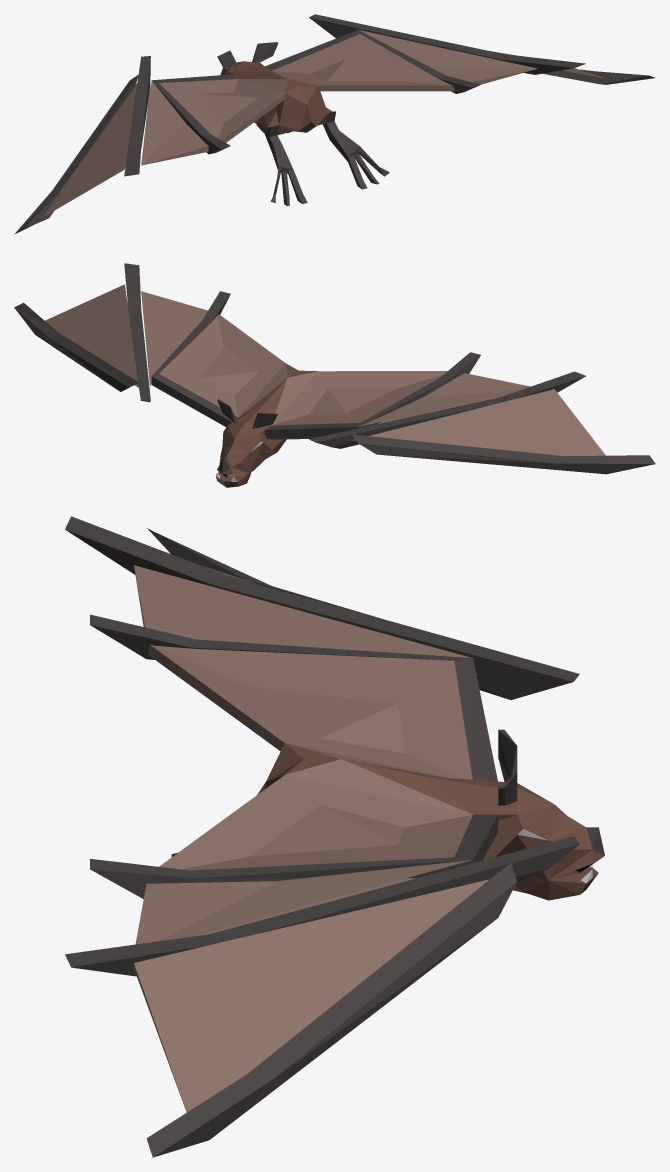
Rendered from npc_world_giant_bat_2_0.obj.
3 views of the same model, one above another, from view 1: azimuth 30°, elevation 25°; view 2: azimuth 150°, elevation 25°; view 3: azimuth 270°, elevation 25° (orthographic). The views are drawn at different scales.
Bounding box in the file's own units: 1.84 × 0.25 × 0.6719.
